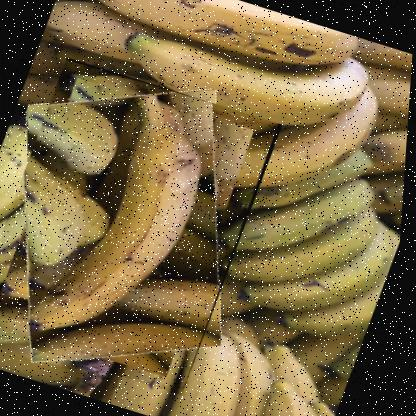banana: (0, 55, 287, 395)
